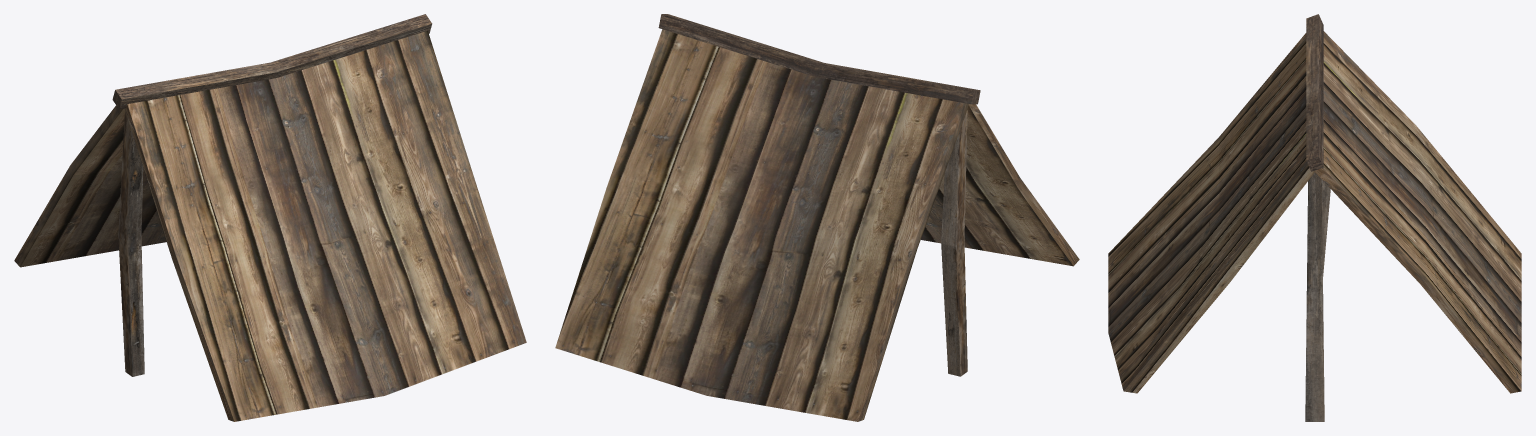
3 views of the same model, side by side, from view 1: azimuth 30°, elevation 25°; view 2: azimuth 150°, elevation 25°; view 3: azimuth 270°, elevation 25° (orthographic). The views are drawn at different scales.
Parts seen in each view (by area): view 1: wooden shelter; view 2: wooden shelter; view 3: wooden shelter.
Boxes of the visible parts, x1=… form: wooden shelter: x1=14, y1=14, x2=526, y2=421; wooden shelter: x1=555, y1=14, x2=1079, y2=421; wooden shelter: x1=1108, y1=14, x2=1521, y2=421.
Size of the model in its own units: 2.07 by 1.82 by 2.54.
Materials: 1 (1 with a texture image).
